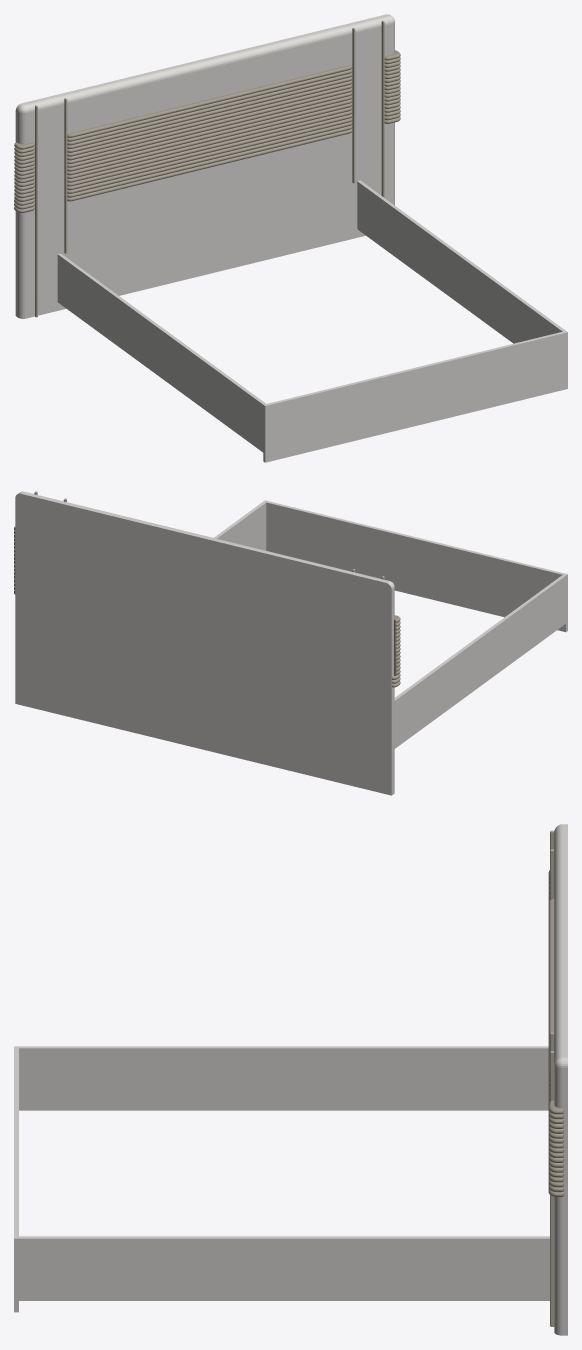
The model's file is julia_bed.glb.
The picture shows the model from 3 angles, top to bottom: view 1: azimuth 30°, elevation 25°; view 2: azimuth 150°, elevation 25°; view 3: azimuth 270°, elevation 25°; orthographic projection. The views are drawn at different scales.
Parts seen in each view (by area): view 1: 3DGeom-1, 3DGeom-2, 3DGeom-3; view 2: 3DGeom-1, 3DGeom-2; view 3: 3DGeom-1, 3DGeom-2, 3DGeom-3.
Part boxes in pixels (x1,y1,x2,y2): 3DGeom-1: (15, 14, 567, 462); 3DGeom-2: (14, 50, 400, 212); 3DGeom-3: (35, 20, 384, 317); 3DGeom-1: (15, 491, 567, 795); 3DGeom-2: (14, 527, 400, 687); 3DGeom-1: (14, 824, 567, 1335); 3DGeom-2: (548, 870, 563, 1196); 3DGeom-3: (550, 830, 554, 1326).
Bounding box in the file's own units: 2.09 × 1.1 × 2.01.
